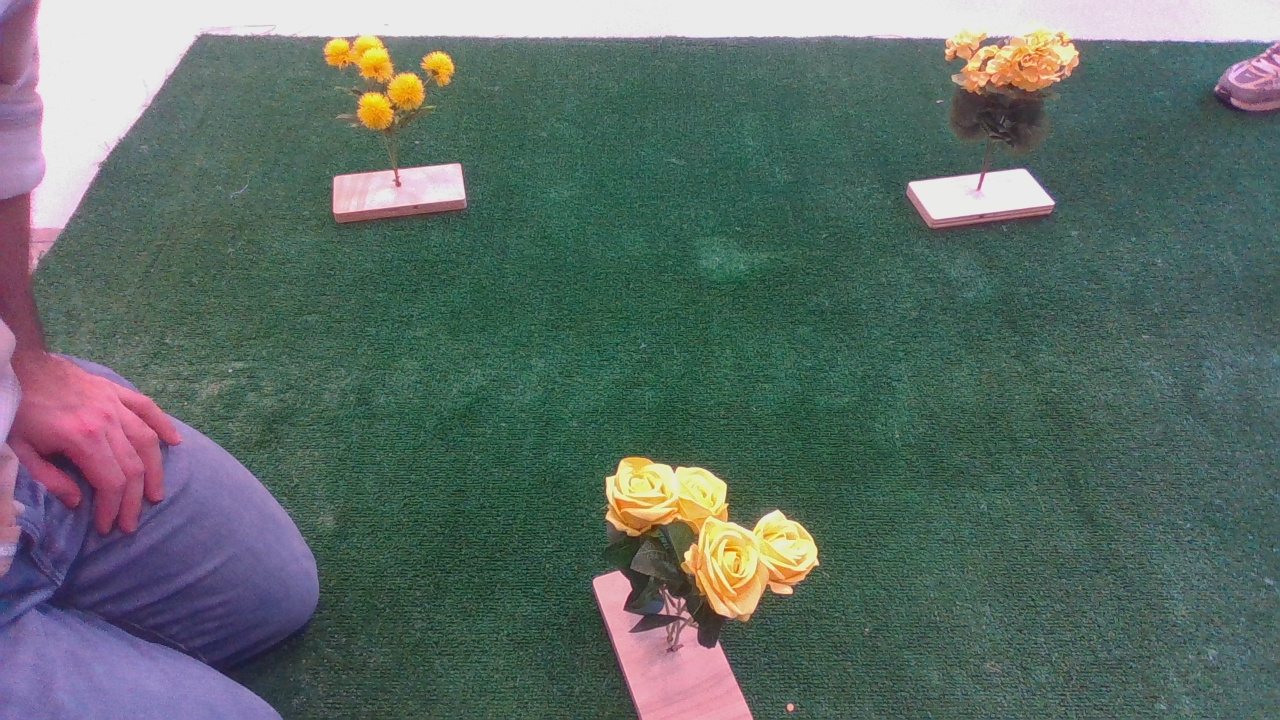dandelion: (317, 36, 470, 141)
geranium: (944, 29, 1096, 166)
rose: (584, 441, 834, 638)
